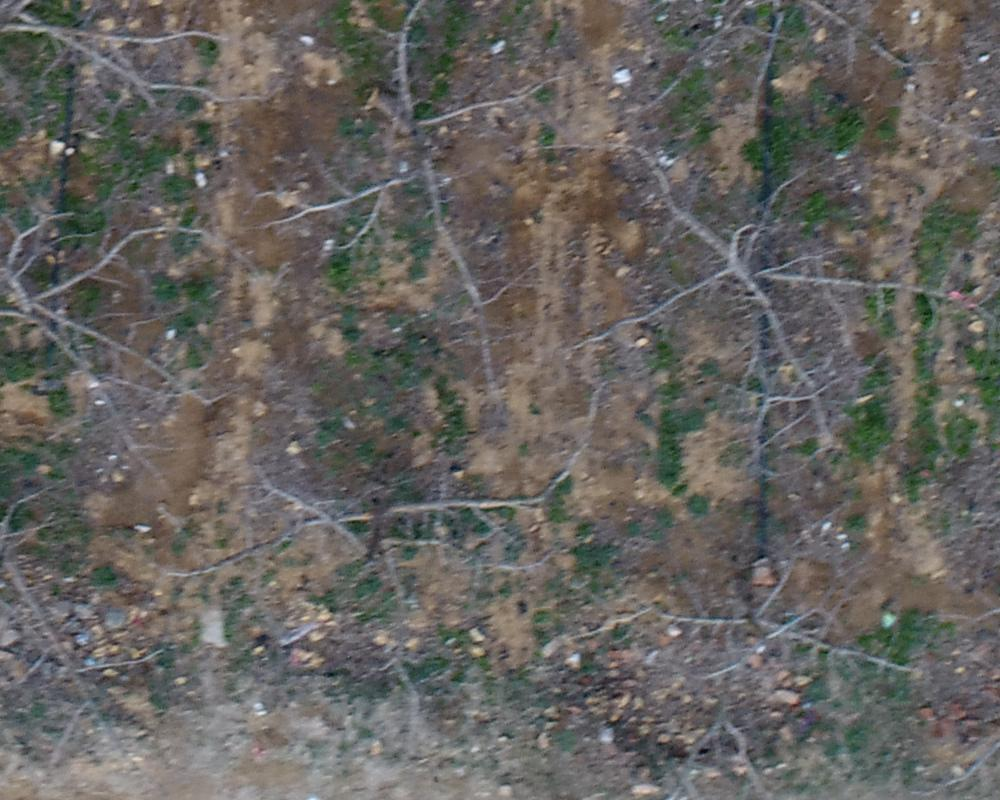apple: (578, 129, 983, 475), (261, 10, 566, 401), (188, 400, 611, 631), (10, 173, 250, 484), (10, 448, 170, 789), (656, 540, 928, 732), (600, 10, 950, 148)
